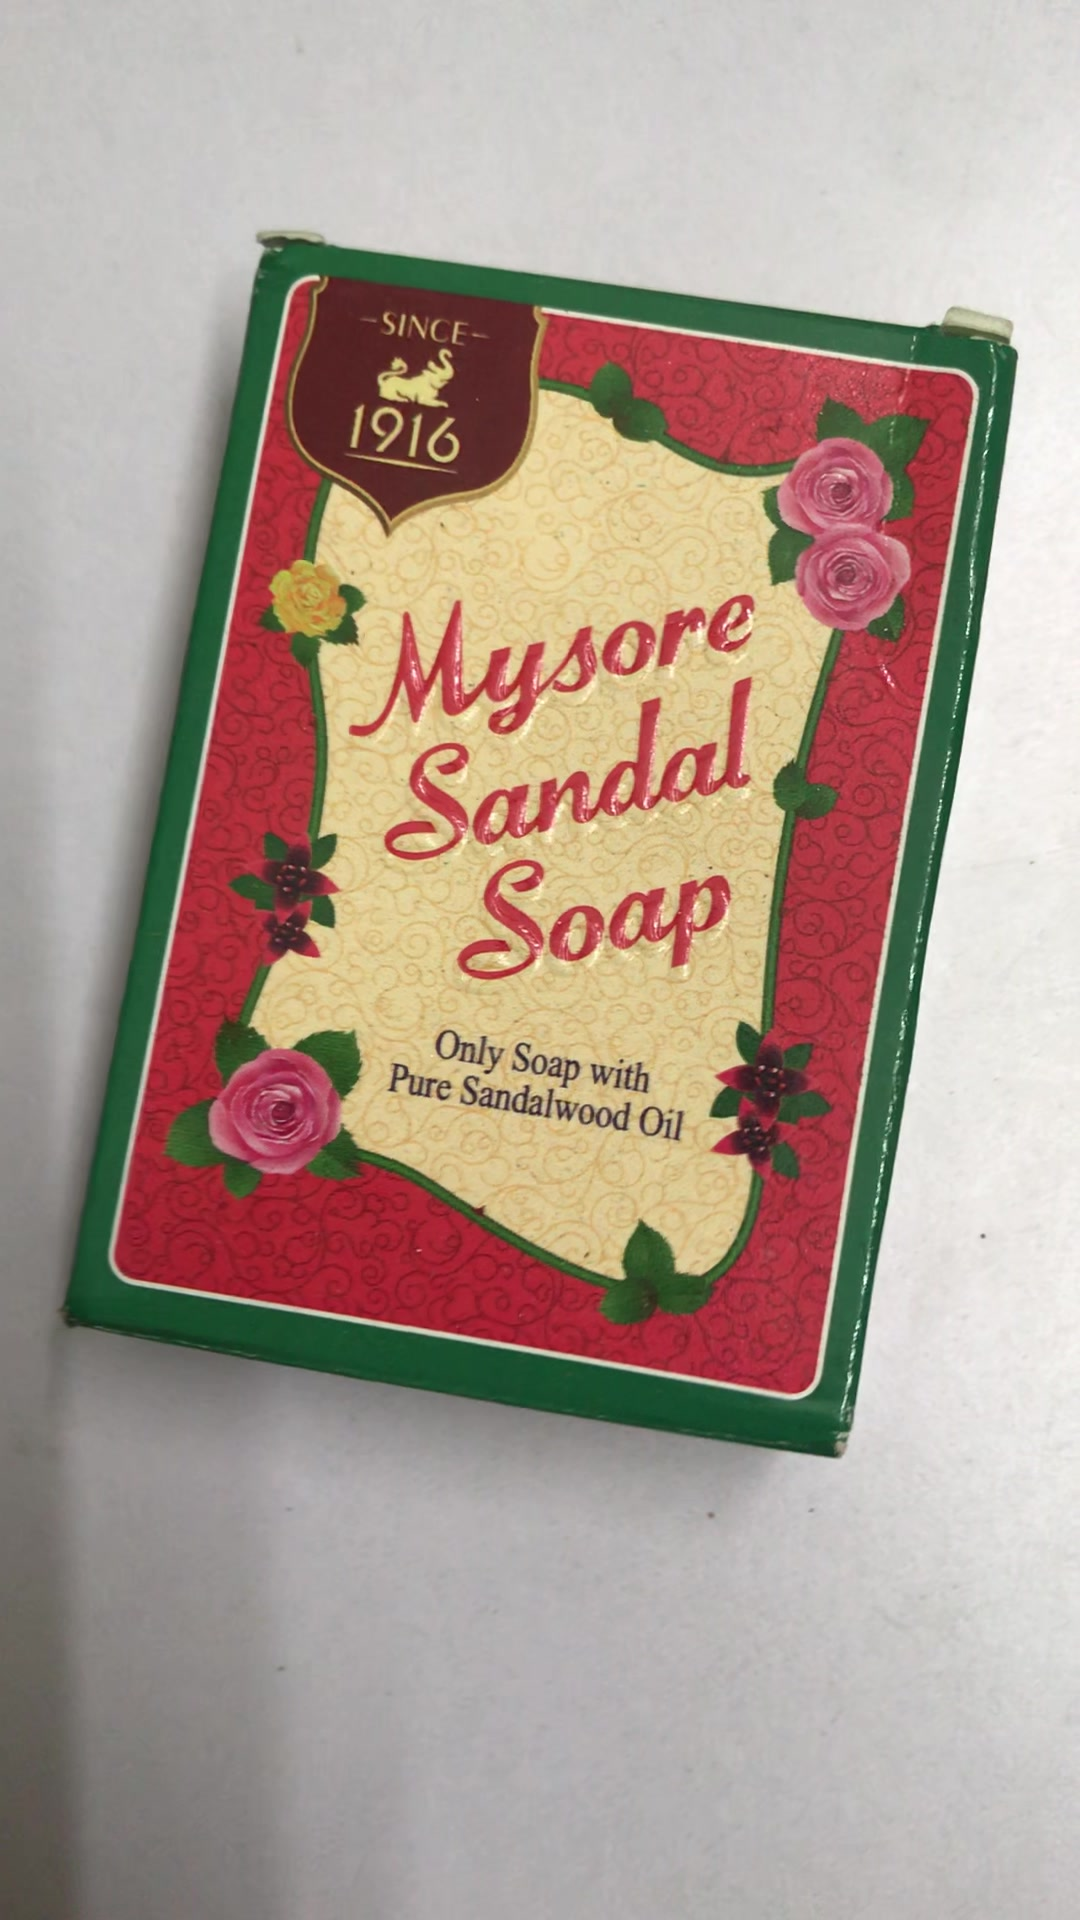mysore sandal soap: (53, 243, 1026, 1455)
